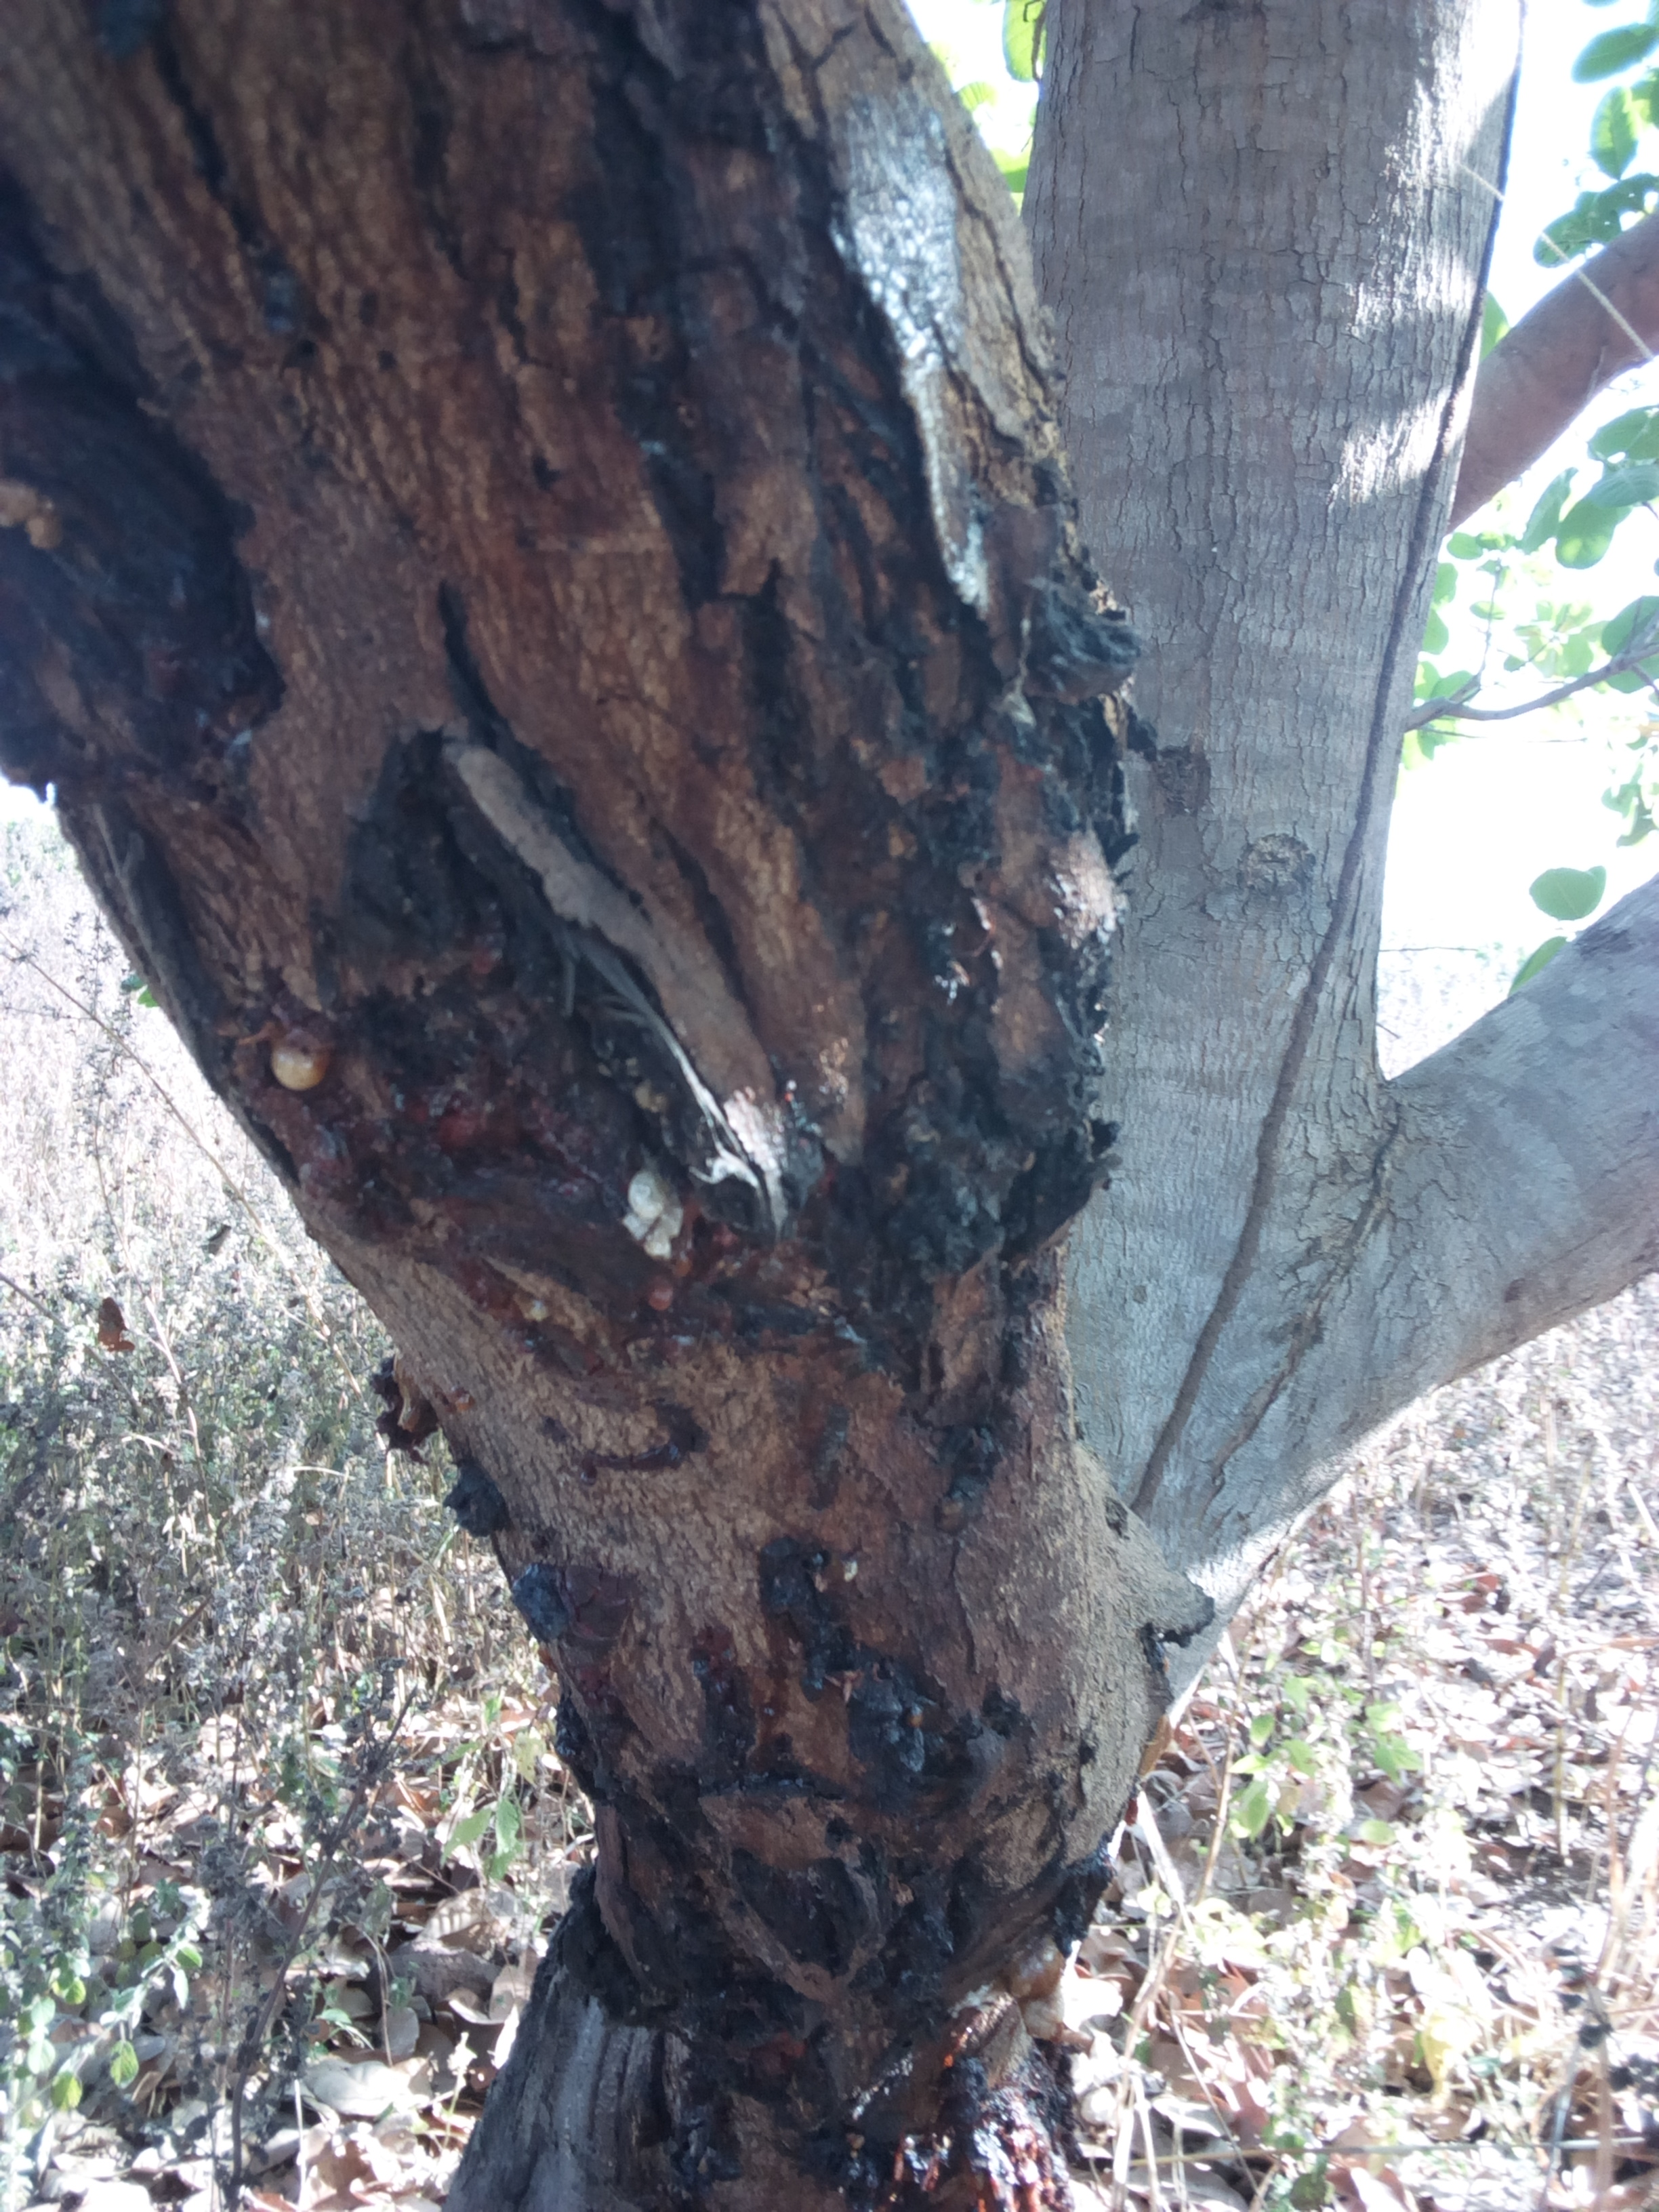Gommose: (552, 52, 1105, 1346), (545, 1594, 1063, 2149), (0, 195, 260, 770)
